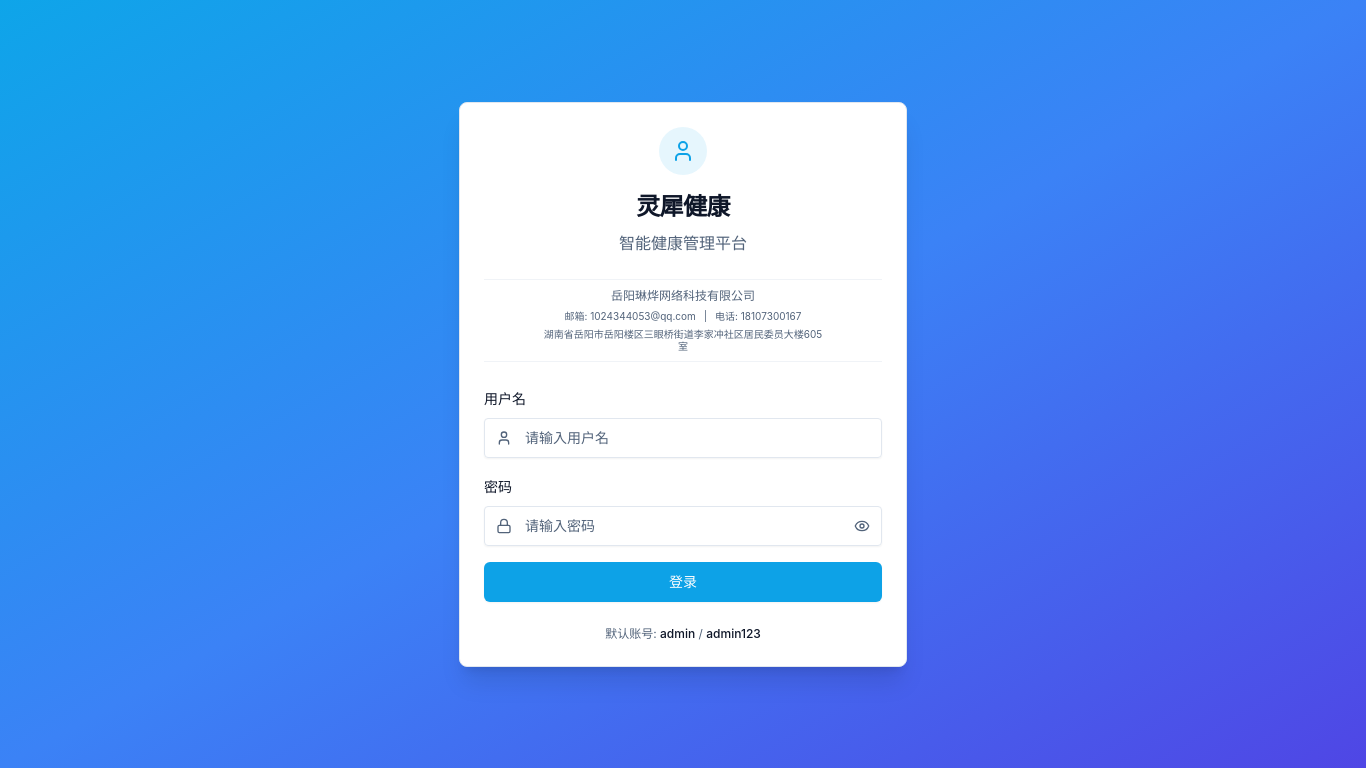
Test: Login Page › Form Validation › should show username error when submitting empty username
The width and height of the screenshot is (1366, 768).
Step 1. Click the button "登录" → (683, 582), box [484, 562, 882, 602]
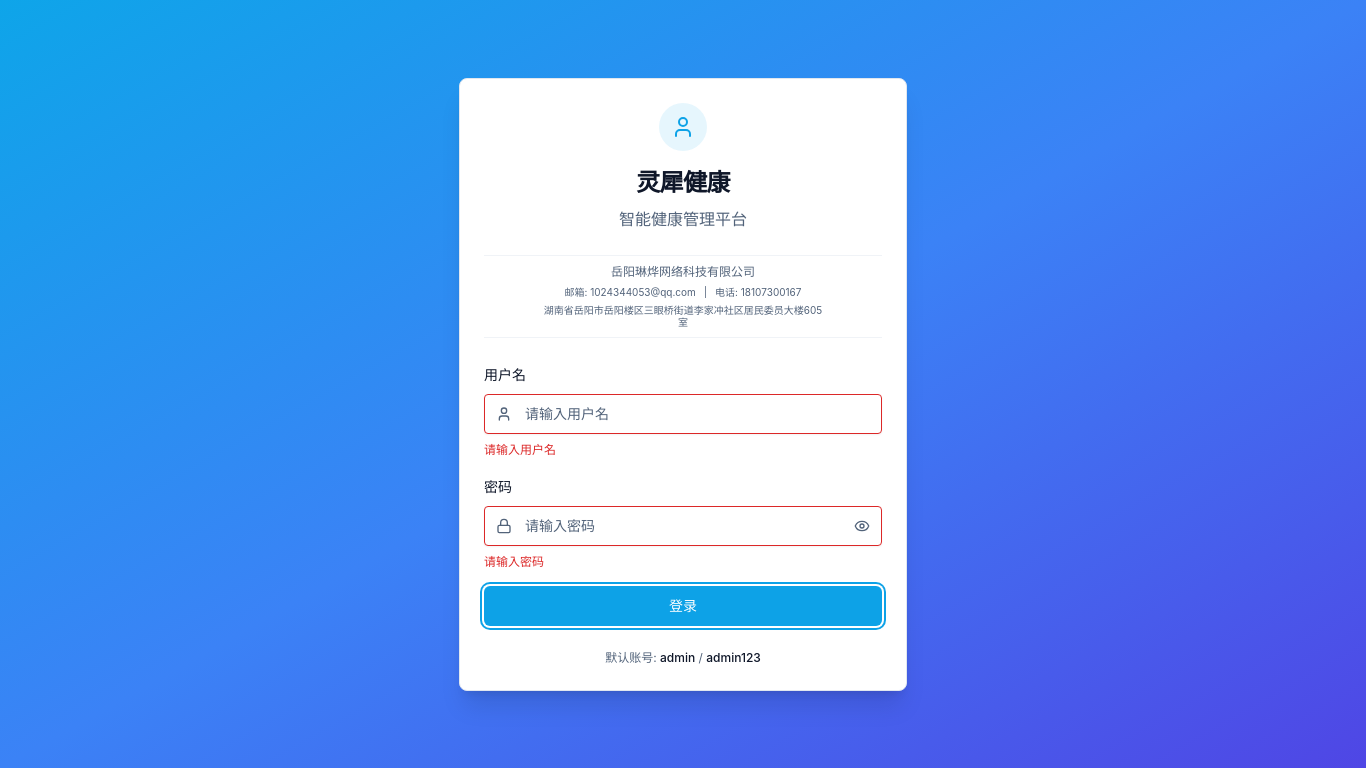
Expected: the text "请输入用户名" is shown, [484, 442, 556, 456]
